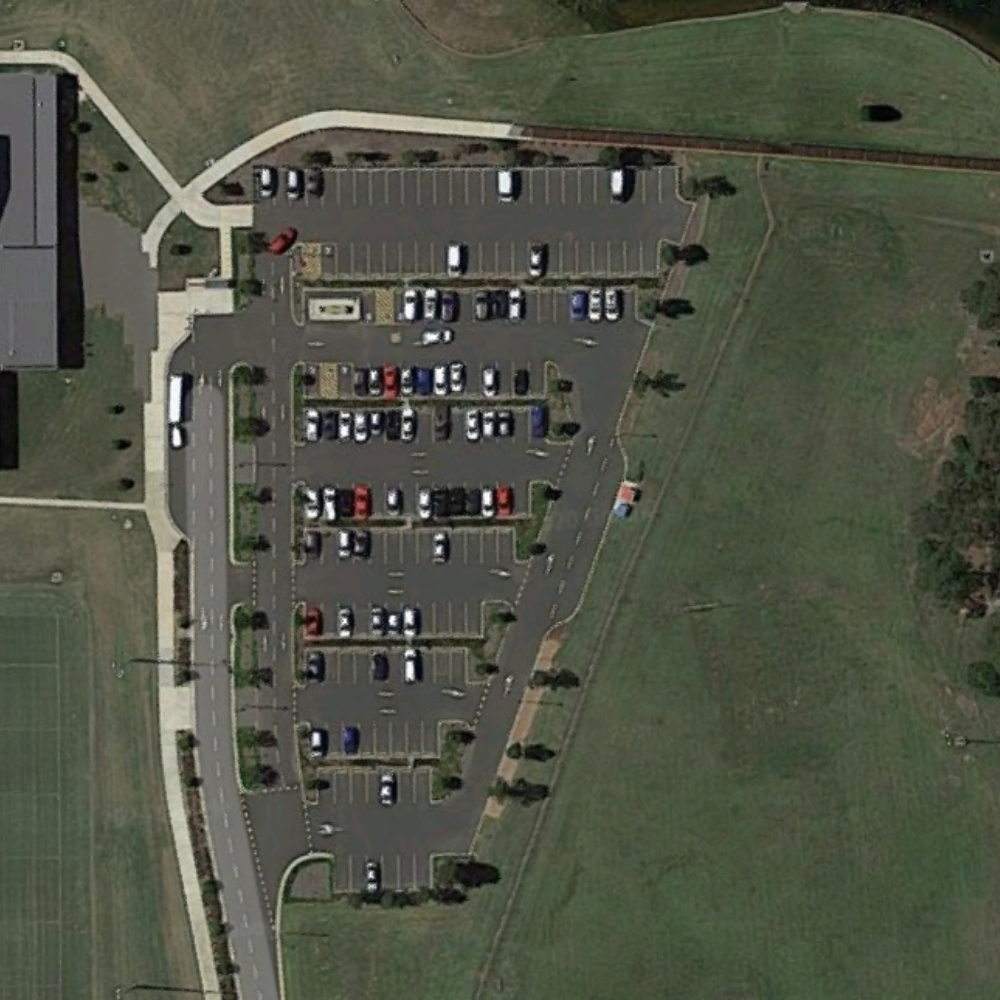parking: (250, 170, 680, 890)
